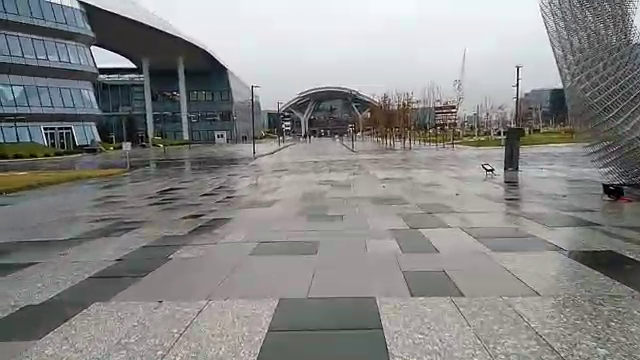mega: (275, 85, 389, 149)
